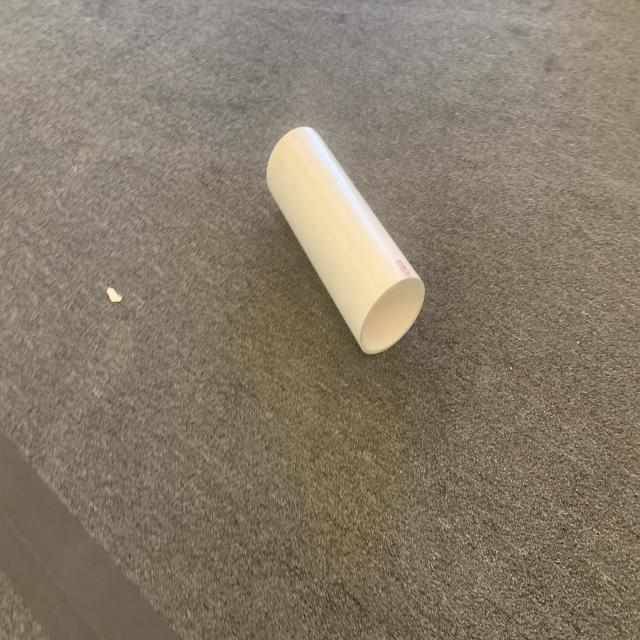Coral: (265, 124, 425, 356)
